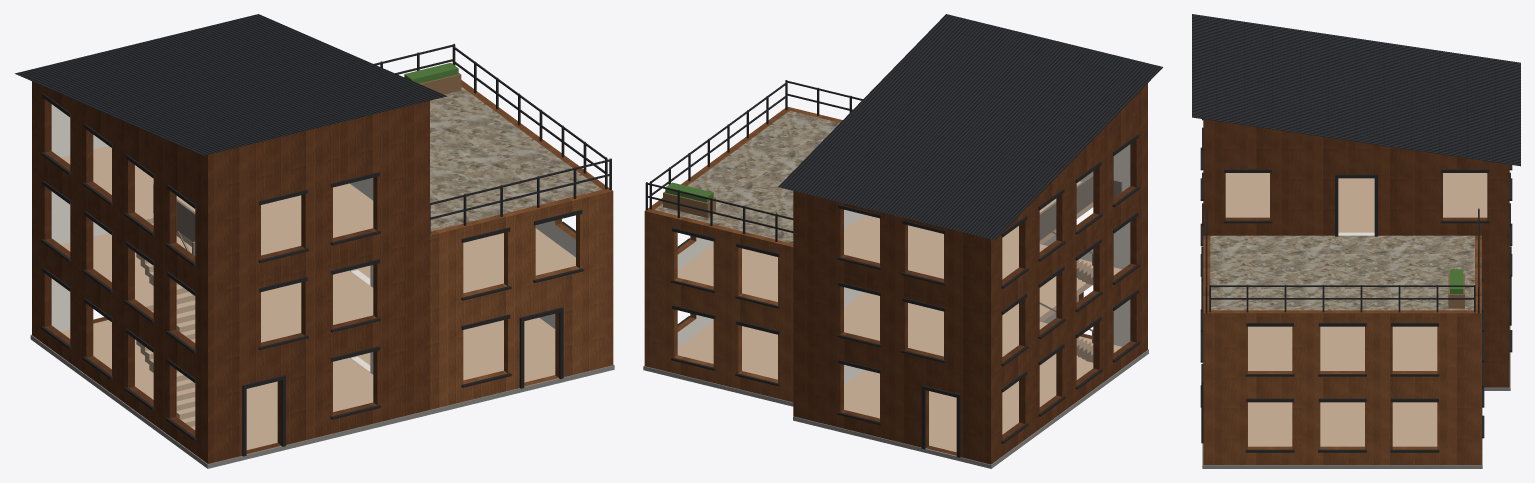
The model's file is rw-split-modern.towns-v2.lod0.glb.
3 renders of one model, left to right at view 1: azimuth 30°, elevation 25°; view 2: azimuth 150°, elevation 25°; view 3: azimuth 270°, elevation 25°, orthographic. The views are drawn at different scales.
Parts seen in each view (by area): view 1: rw-split-modern; view 2: rw-split-modern; view 3: rw-split-modern.
Boxes of the visible parts, bbox=[...] form: rw-split-modern: bbox=[15, 14, 614, 468]; rw-split-modern: bbox=[643, 14, 1162, 468]; rw-split-modern: bbox=[1192, 14, 1520, 468].
Size of the model in its own units: 15.09 by 11.03 by 11.8.
6 materials, 3 textured.
